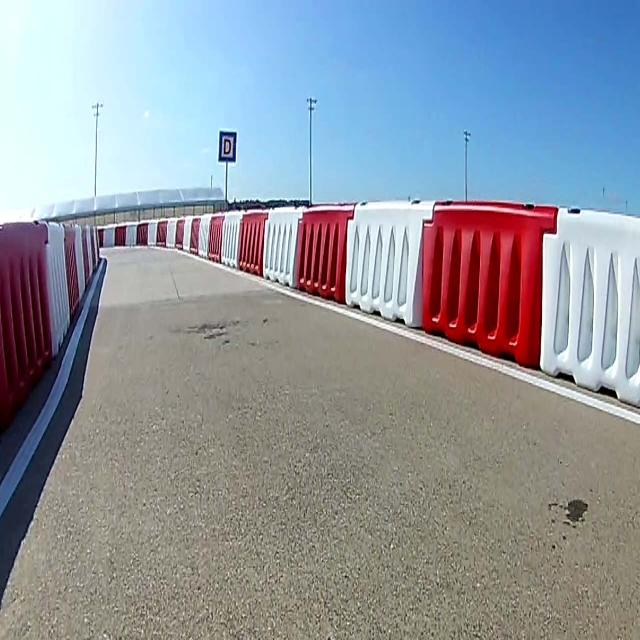durak: (218, 132, 236, 162)
